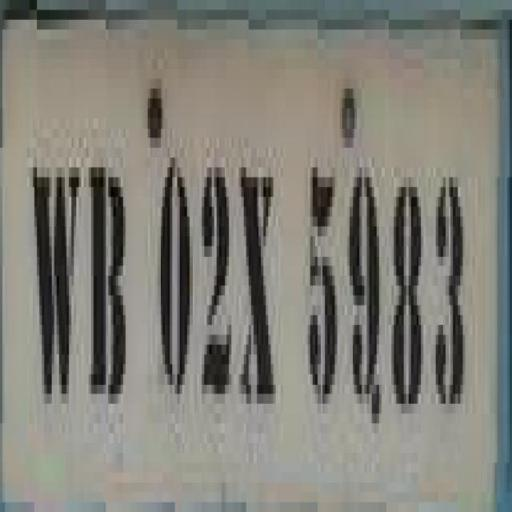number plate: (5, 19, 482, 512)
